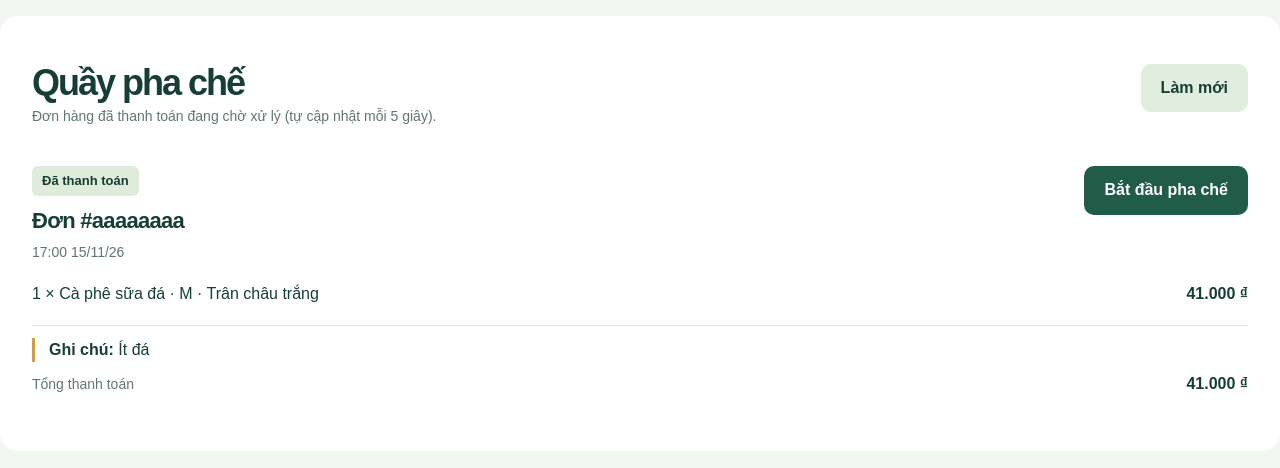
Test: loads staff queue and advances order status via PATCH /orders/:id/status
Expected: the heading "Đơn #aaaaaaaa" is shown, top-left (32, 204), bottom-right (184, 238)
Expected: the text "Ghi chú: Ít đá" is shown, top-left (32, 338), bottom-right (1248, 362)
Click the button "Bắt đầu pha chế": x=1166, y=190 top-left (1084, 166), bottom-right (1248, 215)
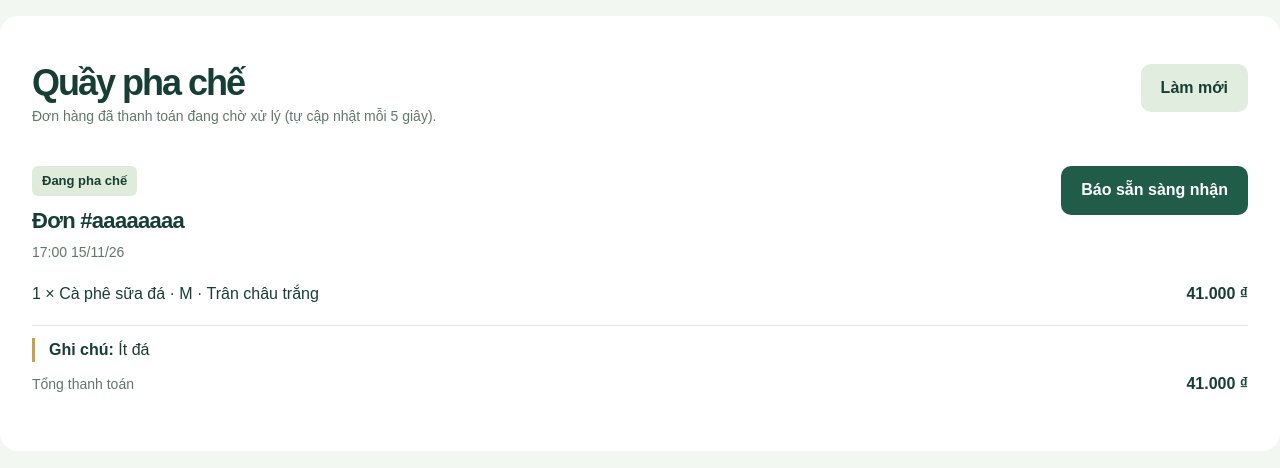
Now the text "Đang pha chế" is shown, box top-left (32, 166), bottom-right (137, 196)
Now the button "Báo sẵn sàng nhận" is shown, box top-left (1061, 166), bottom-right (1248, 215)
